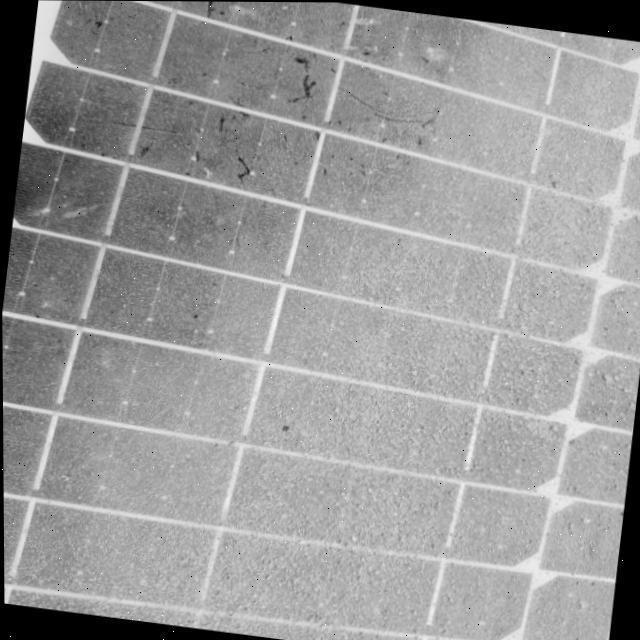Surface Contaminant: (2, 0, 617, 576)
